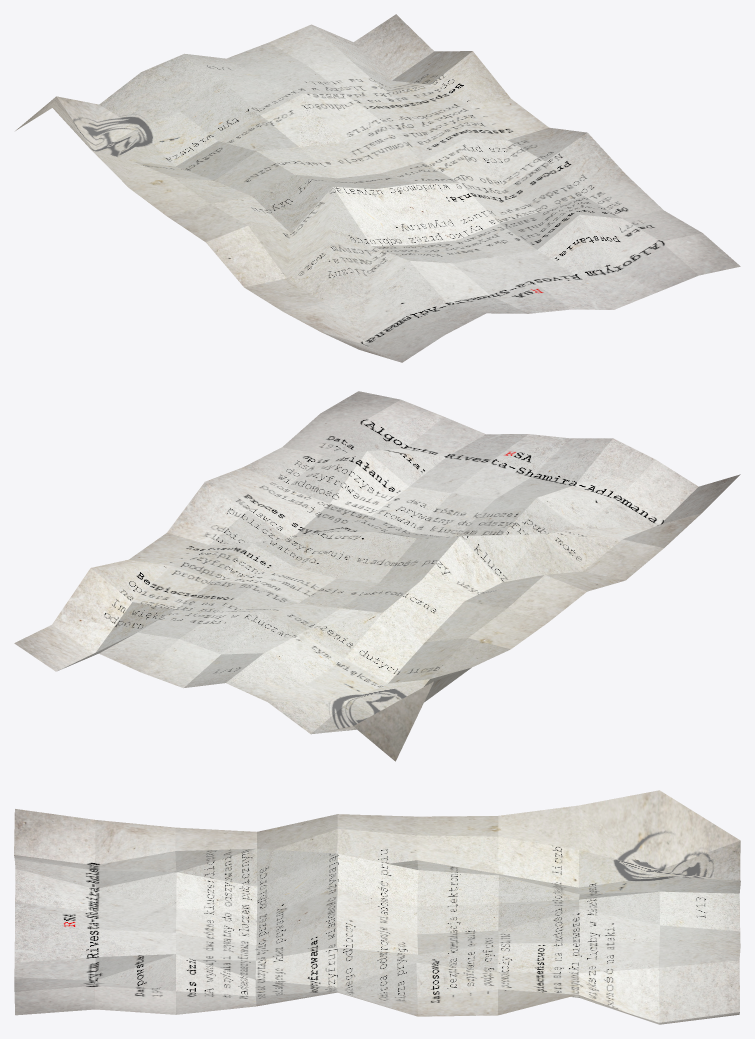
File: RSA_crumbled.glb
The picture shows the model from 3 angles, top to bottom: view 1: azimuth 30°, elevation 25°; view 2: azimuth 150°, elevation 25°; view 3: azimuth 270°, elevation 25°; orthographic projection. The views are drawn at different scales.
Parts seen in each view (by area): view 1: Plane.001; view 2: Plane.001; view 3: Plane.001.
Boxes of the visible parts, x1,y1,x2,y2 form: Plane.001: (15,14,740,362); Plane.001: (14,391,740,761); Plane.001: (14,790,740,1024).
Bounding box in the file's own units: 1.28 × 0.184 × 2.
Materials: 1 (1 with a texture image).
